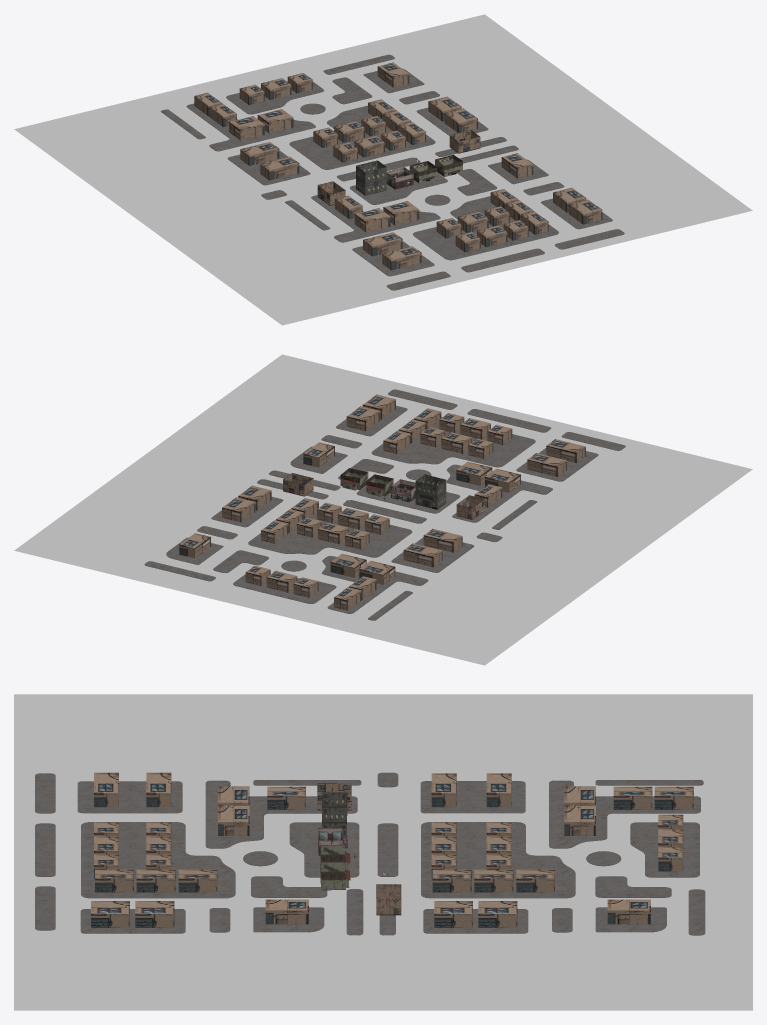
The model's file is map.fbx.
3 renders of one model, top to bottom at view 1: azimuth 30°, elevation 25°; view 2: azimuth 150°, elevation 25°; view 3: azimuth 270°, elevation 25°, orthographic. The views are drawn at different scales.
Parts seen in each view (by area): view 1: streetPlane, layout1, pCube70, pCube67, pCube68, pCube69, pCube37, pCube64, pCube60, pCube38, pCube57, pCube63 (+4 smaller); view 2: streetPlane, layout1, pCube69, pCube67, pCube68, pCube70, pCube59, pCube63, pCube58, pCube38, pCube64, pCube37 (+5 smaller); view 3: streetPlane, layout1, pCube62, pCube61, pCube59, pCube58, pCube60, pCube57, pCube63, pCube38, pCube45, pCube66 (+19 smaller).
Part boxes in pixels (<box>): streetPlane: <box>14,14,752,325</box>; layout1: <box>161,54,624,290</box>; pCube70: <box>382,246,421,270</box>; pCube67: <box>240,142,279,165</box>; pCube68: <box>260,156,299,180</box>; pCube69: <box>363,232,402,256</box>; pCube37: <box>354,208,390,232</box>; pCube64: <box>229,116,264,140</box>; pCube60: <box>569,199,602,224</box>; pCube38: <box>383,201,419,225</box>; pCube57: <box>444,108,477,132</box>; pCube63: <box>257,109,293,133</box>; streetPlane: <box>14,354,752,665</box>; layout1: <box>144,389,625,620</box>; pCube69: <box>527,453,566,476</box>; pCube67: <box>403,543,442,567</box>; pCube68: <box>423,529,462,552</box>; pCube70: <box>546,439,585,463</box>; pCube59: <box>346,406,379,431</box>; pCube63: <box>330,553,366,577</box>; pCube58: <box>222,497,255,522</box>; pCube38: <box>456,461,492,485</box>; pCube64: <box>359,560,395,584</box>; pCube37: <box>485,468,520,492</box>; streetPlane: <box>14,694,752,1010</box>; layout1: <box>35,772,705,935</box>; pCube62: <box>607,899,650,924</box>; pCube61: <box>265,899,308,924</box>; pCube59: <box>135,901,174,927</box>; pCube58: <box>478,901,517,927</box>; pCube60: <box>91,901,129,927</box>; pCube57: <box>434,901,472,927</box>; pCube63: <box>564,805,595,835</box>; pCube38: <box>218,805,249,835</box>; pCube45: <box>432,869,471,892</box>; pCube66: <box>654,786,693,809</box>.
Bounding box in the file's own units: 9464 × 488 × 9338.
